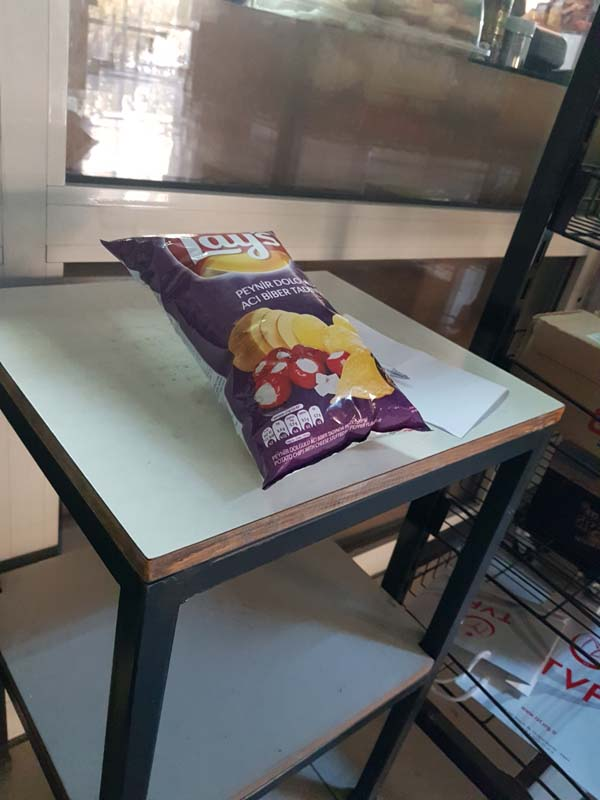layspeynirsoslu: (96, 233, 435, 487)
